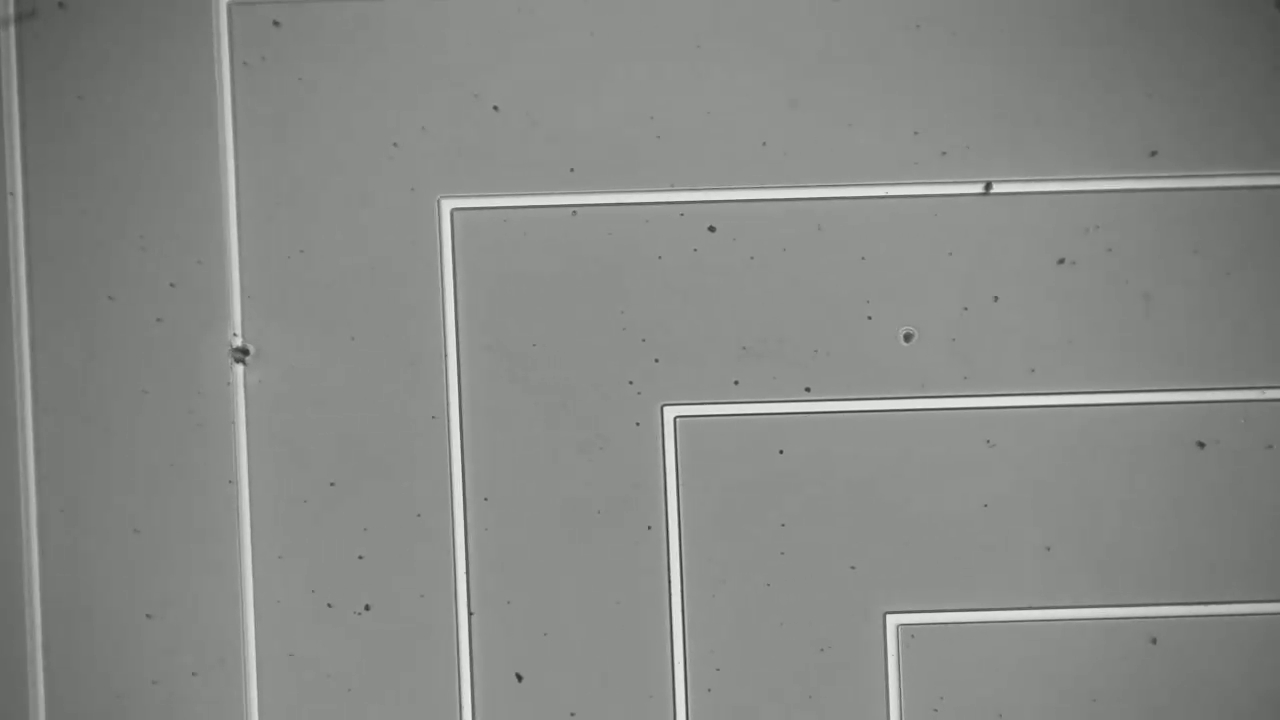stains_enbedded: (219, 329, 264, 380), (978, 169, 1006, 204)
